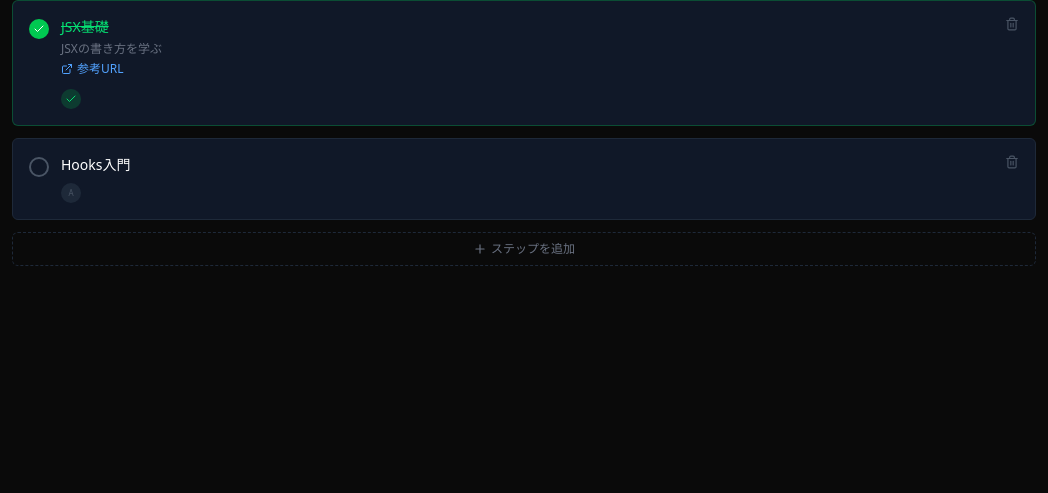
Scenario: CircleRoadmapTab › ステップ追加ボタンクリックでフォームが表示される
This screenshot has width=1048, height=493.
Step 1. Click the button "ステップを追加" → (524, 249), box 12,232 -> 1036,266
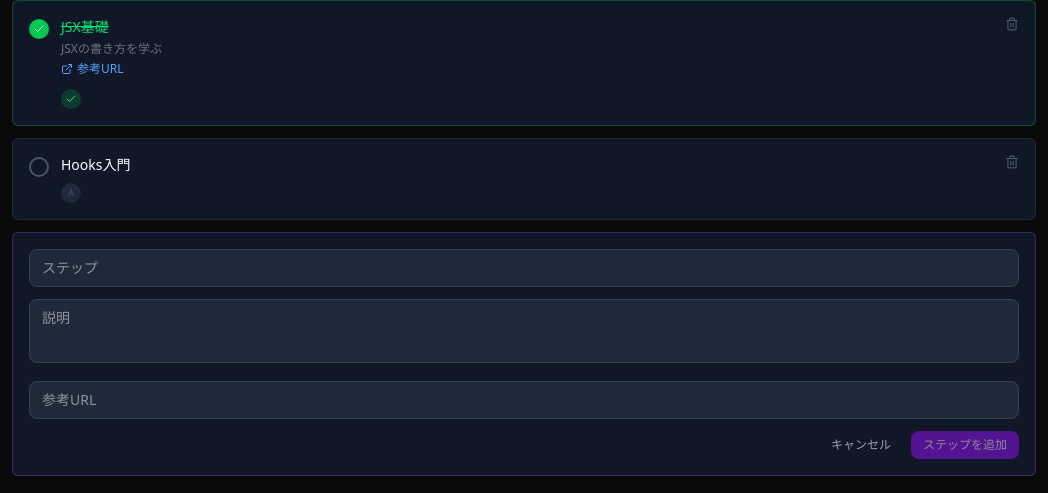
Check: the field with placeholder "ステップ" is shown, box 29,249 -> 1019,287
